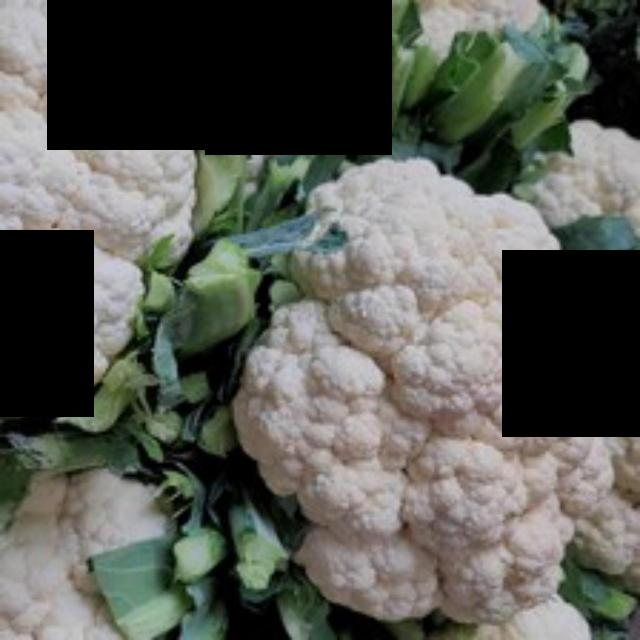cauliflower: (217, 146, 637, 636)
